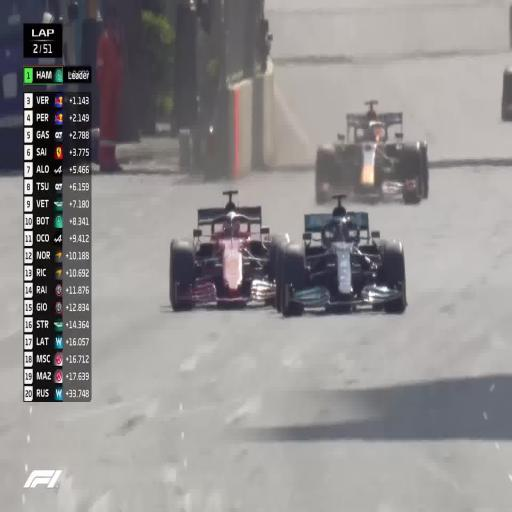f1_car: (275, 195, 406, 316), (170, 190, 288, 310), (315, 112, 428, 203), (366, 100, 377, 108)
